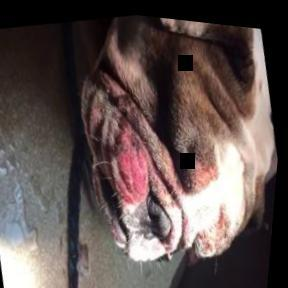skin_lesions: (100, 114, 167, 210)
